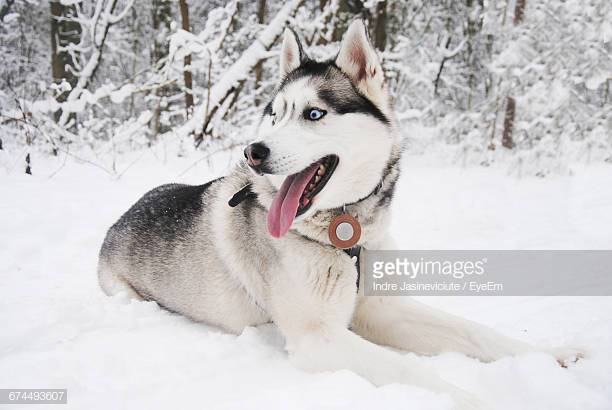husky: (183, 6, 436, 338)
